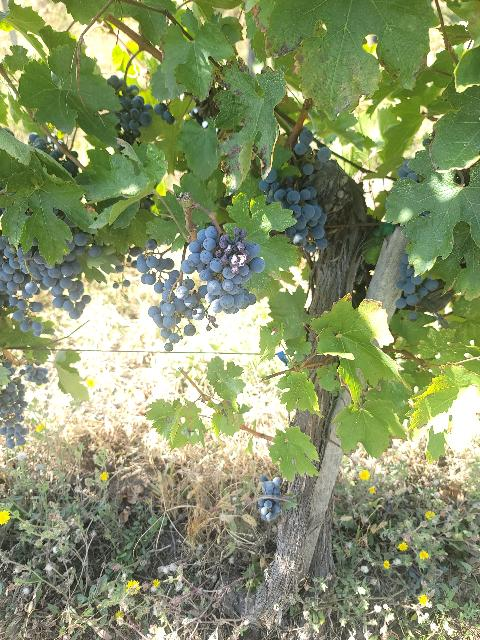grapes: (181, 226, 265, 314), (32, 231, 90, 319), (260, 181, 328, 254), (149, 270, 206, 351), (0, 236, 44, 336), (135, 239, 175, 294), (0, 378, 28, 449), (25, 365, 49, 385)
